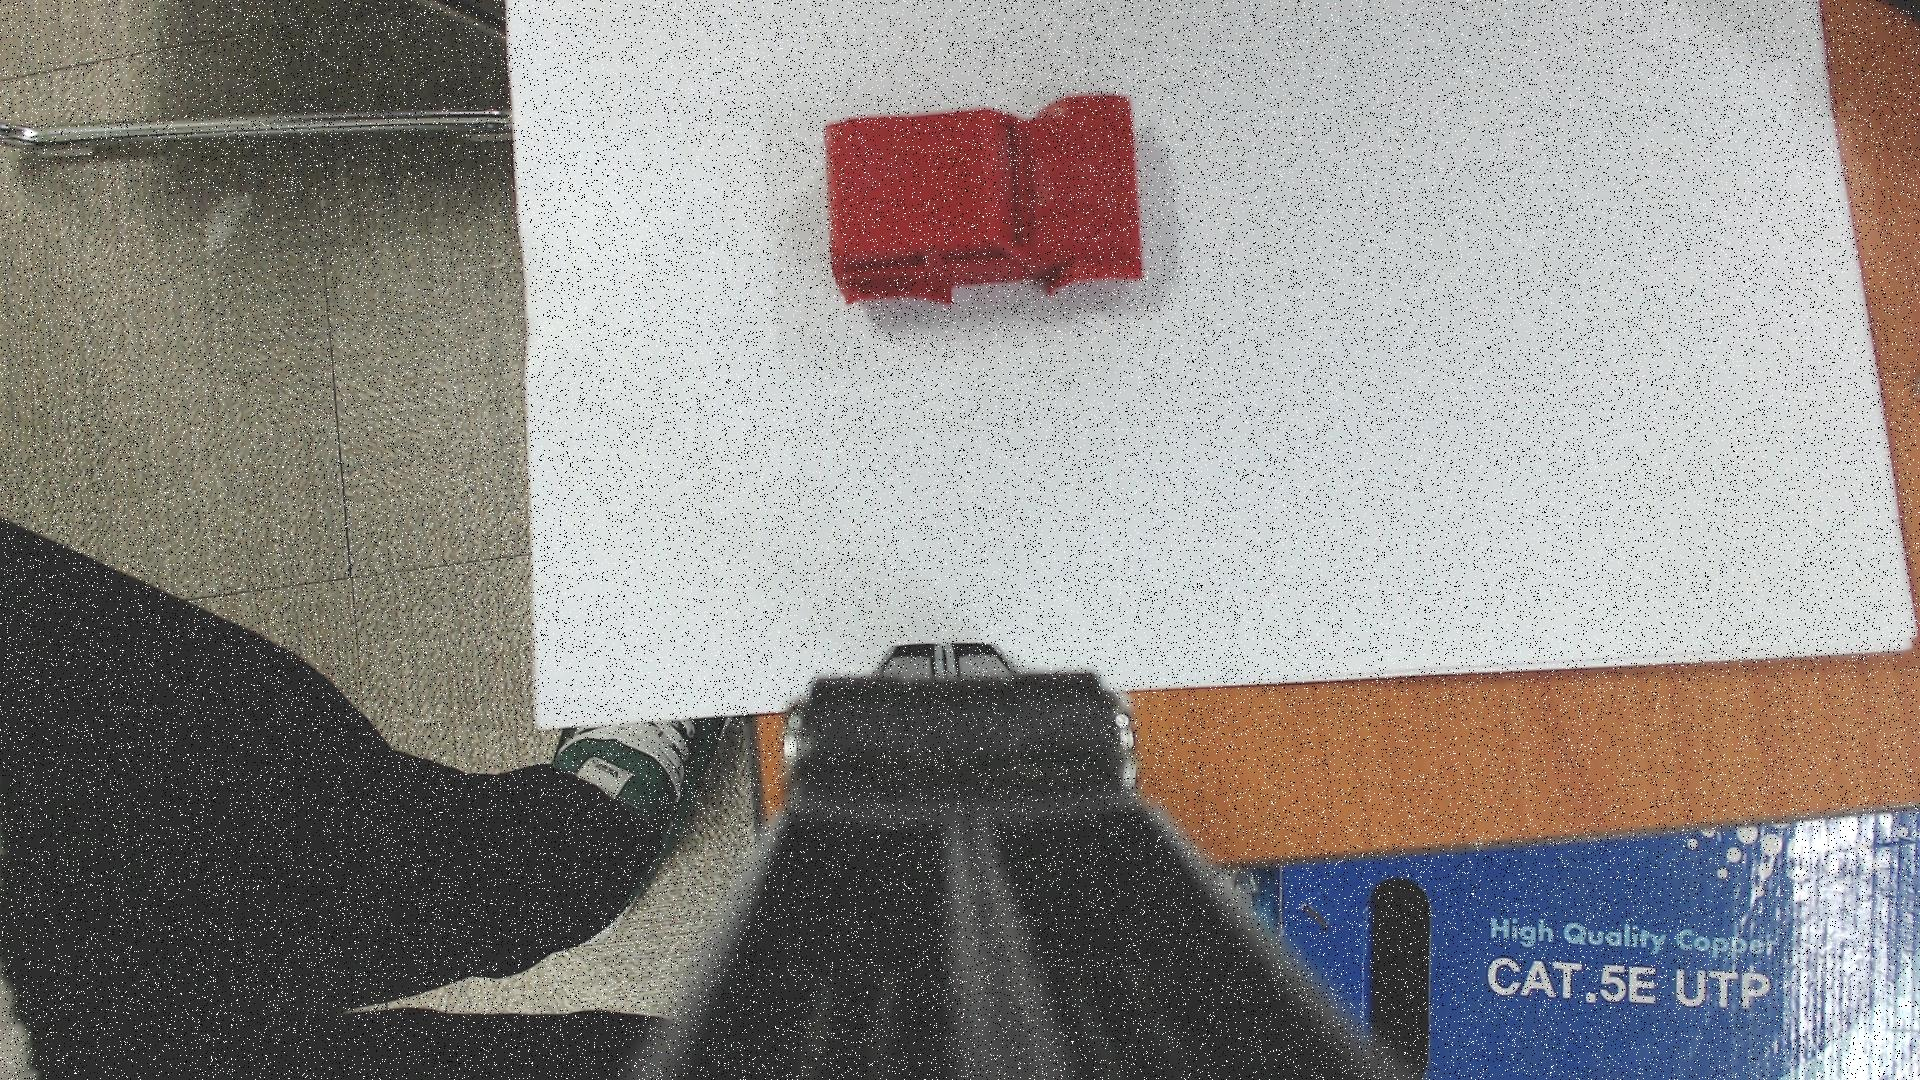Upper_ok: (824, 96, 1142, 305)
